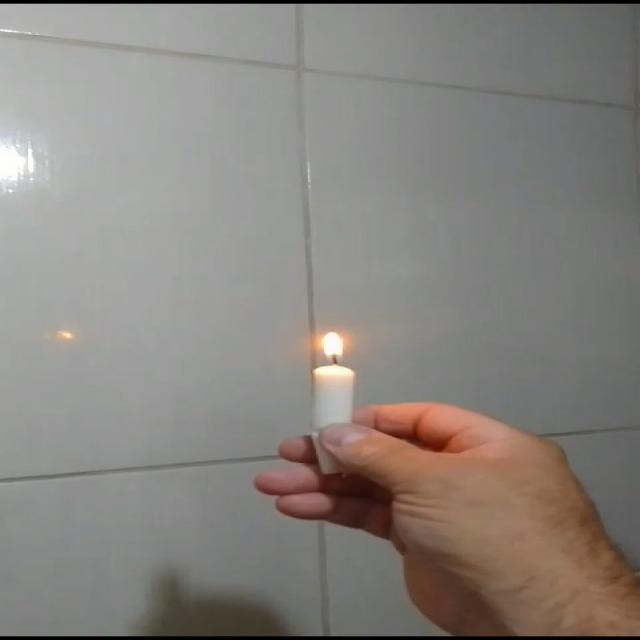fogo-ypXI: (311, 326, 356, 365)
